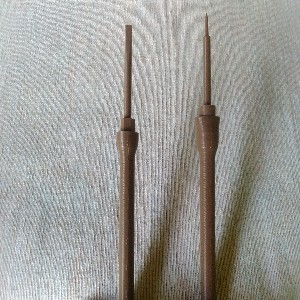obeng: (116, 24, 139, 300)
solder: (195, 11, 221, 300)
